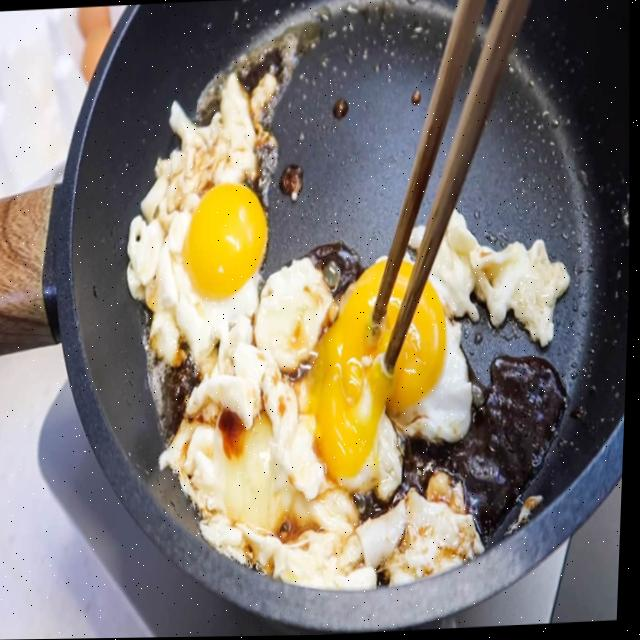Egg: (237, 259, 454, 500), (129, 73, 277, 376)
